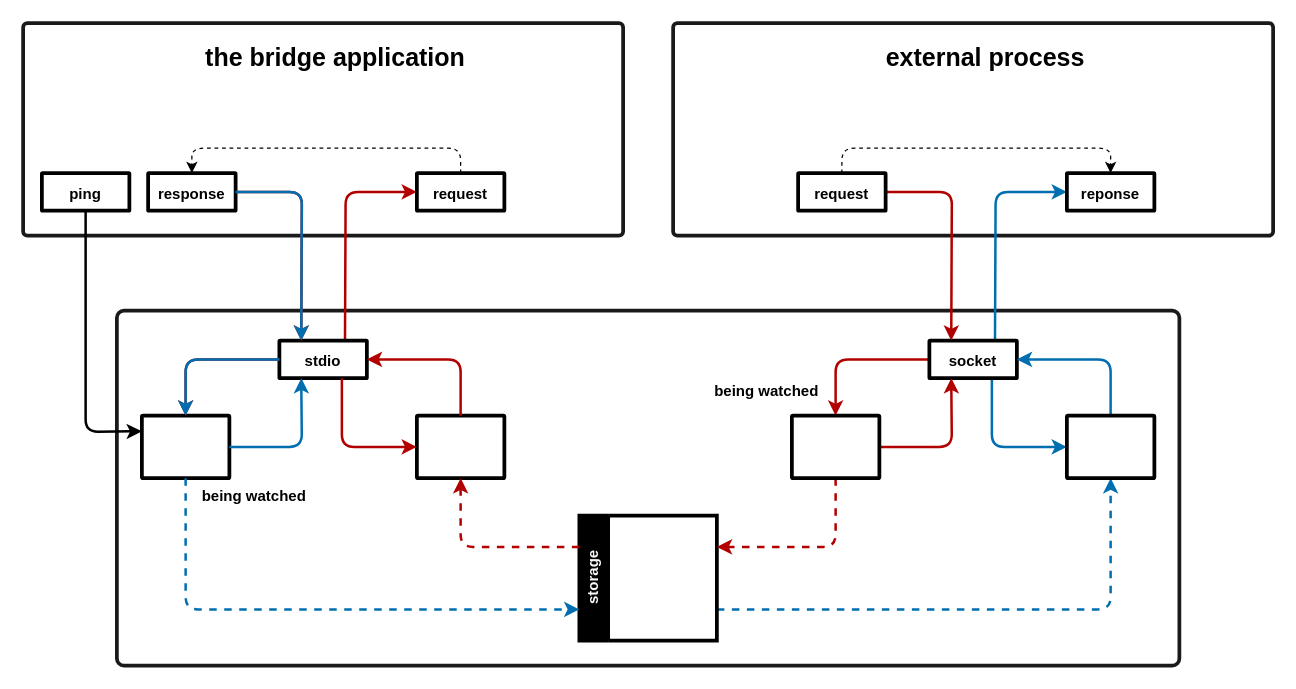
The diagram is 1296 pixels wide and 689 high, and some of its shapes have lost their labels. Here are the shapes that lost their labels. From the top down, the centre of each, then its label:
At pixel 185 446: "enque response".
At pixel 460 446: "deque request".
At pixel 835 446: "enque request".
At pixel 1110 446: "deque response".
